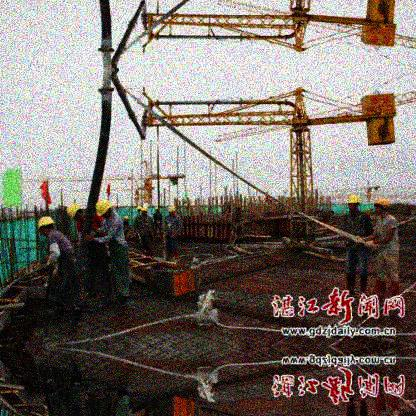helmet: (372, 195, 391, 218), (64, 205, 85, 224), (96, 200, 115, 219), (36, 216, 56, 234), (344, 194, 362, 213), (166, 206, 175, 217), (141, 207, 147, 217), (122, 215, 128, 222), (155, 206, 158, 213)
